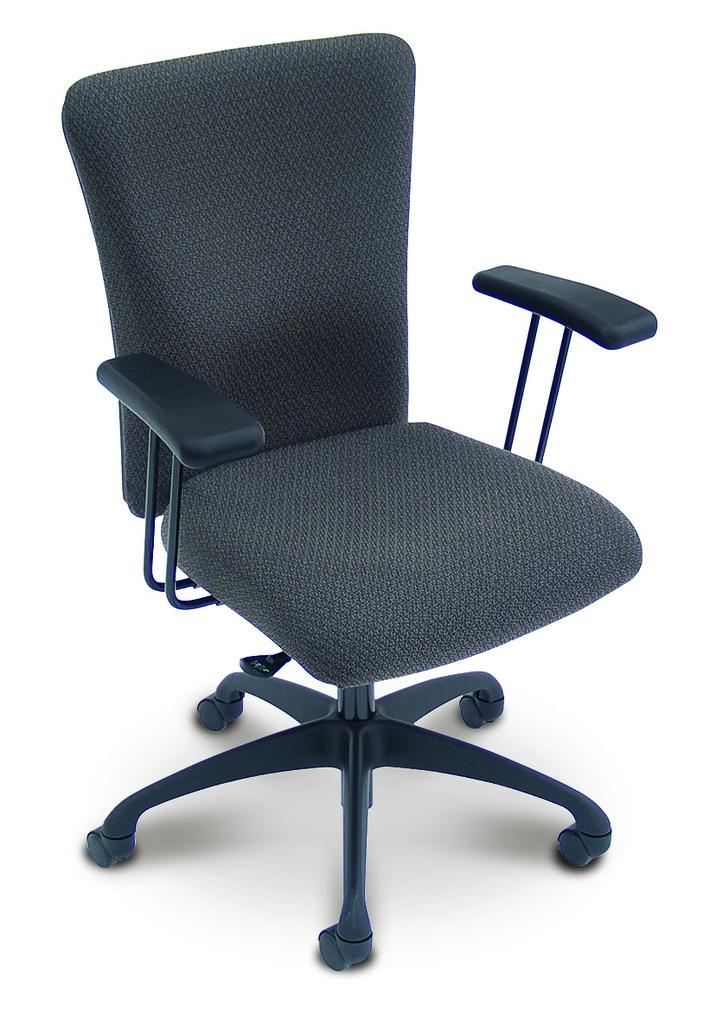Chair: (102, 25, 655, 981)
